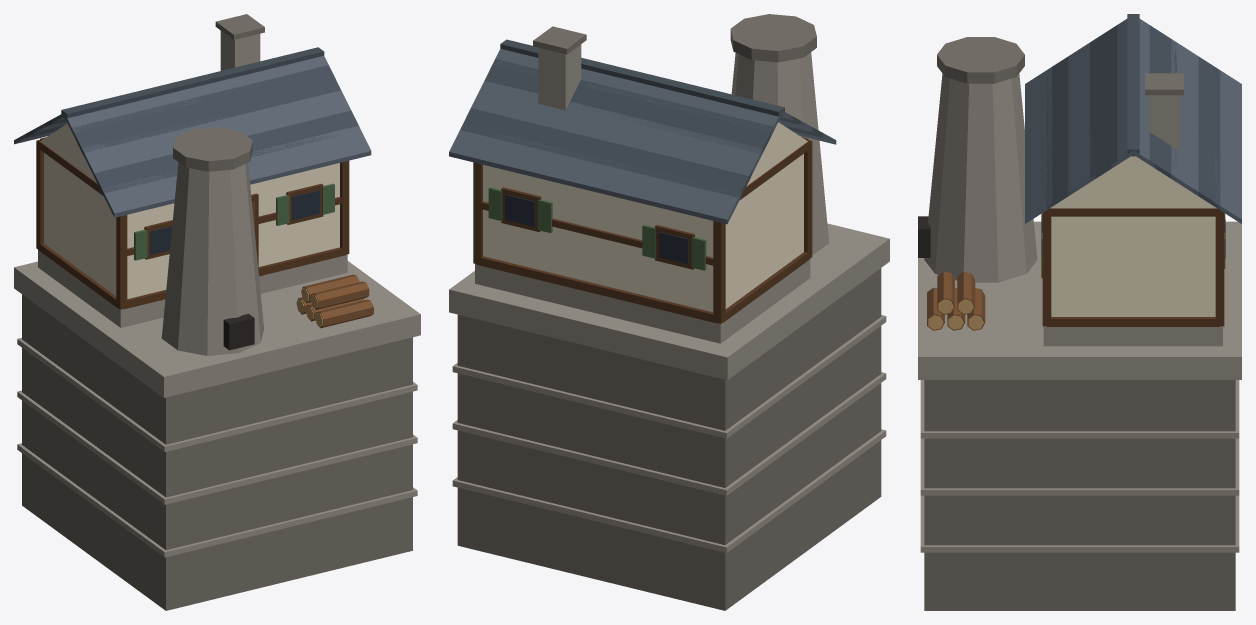
The model's file is smelter.glb.
3 renders of one model, left to right at view 1: azimuth 30°, elevation 25°; view 2: azimuth 150°, elevation 25°; view 3: azimuth 270°, elevation 25°, orthographic. The views are drawn at different scales.
Parts seen in each view (by area): view 1: smelter; view 2: smelter; view 3: smelter.
Part boxes in pixels (x1,y1,x2,y2): smelter: (14, 14, 420, 610); smelter: (449, 14, 889, 610); smelter: (918, 14, 1241, 610).
Size of the model in its own units: 5.1 by 8.72 by 5.15.
